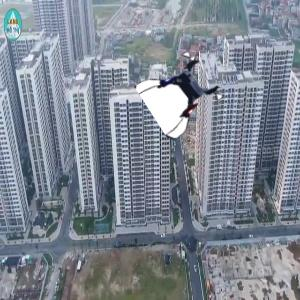drone: (146, 56, 221, 131)
